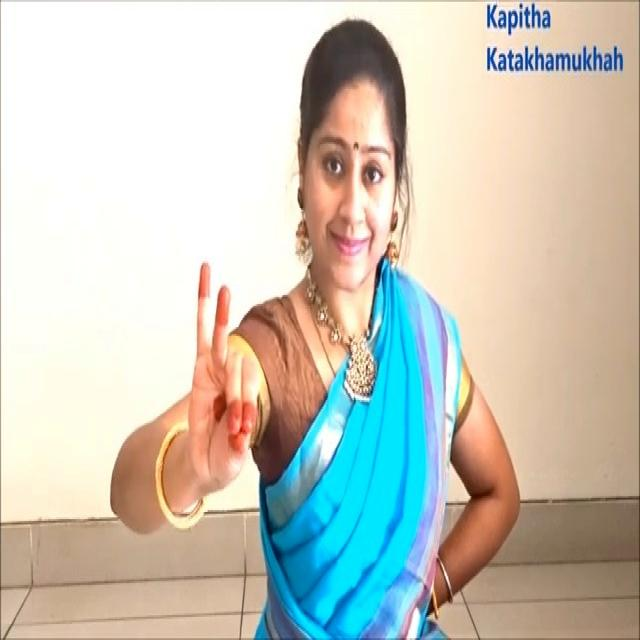Katakamukha: (173, 240, 278, 504)
lady: (281, 17, 427, 280)
text: (474, 0, 632, 88)
